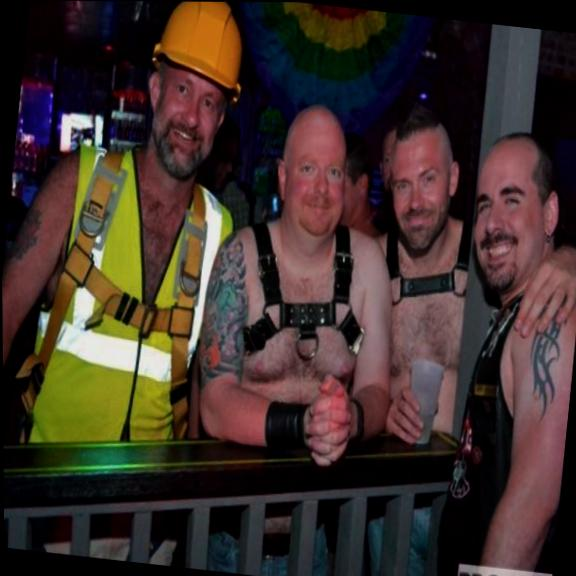no_safety_vest: (22, 141, 232, 461), (197, 225, 402, 474), (430, 288, 576, 576), (356, 233, 487, 447)
